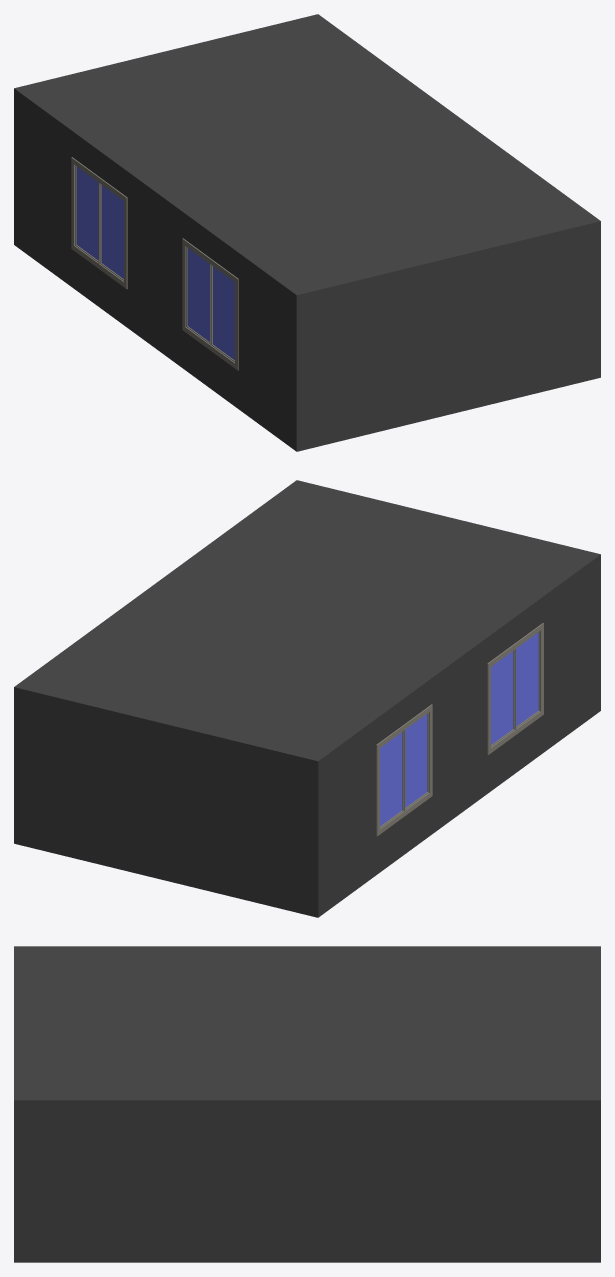
File: Room.fbx
The picture shows the model from 3 angles, top to bottom: view 1: azimuth 30°, elevation 25°; view 2: azimuth 150°, elevation 25°; view 3: azimuth 270°, elevation 25°; orthographic projection. The views are drawn at different scales.
Parts seen in each view (by area): view 1: Layer, Window; view 2: Layer, Window; view 3: Layer.
Part boxes in pixels (bbox=[...]): Layer: bbox=[14, 14, 600, 451]; Window: bbox=[71, 157, 238, 370]; Layer: bbox=[14, 480, 600, 917]; Window: bbox=[376, 623, 543, 836]; Layer: bbox=[14, 946, 600, 1262].
Bounding box in the file's own units: 635 × 311 × 1019.
